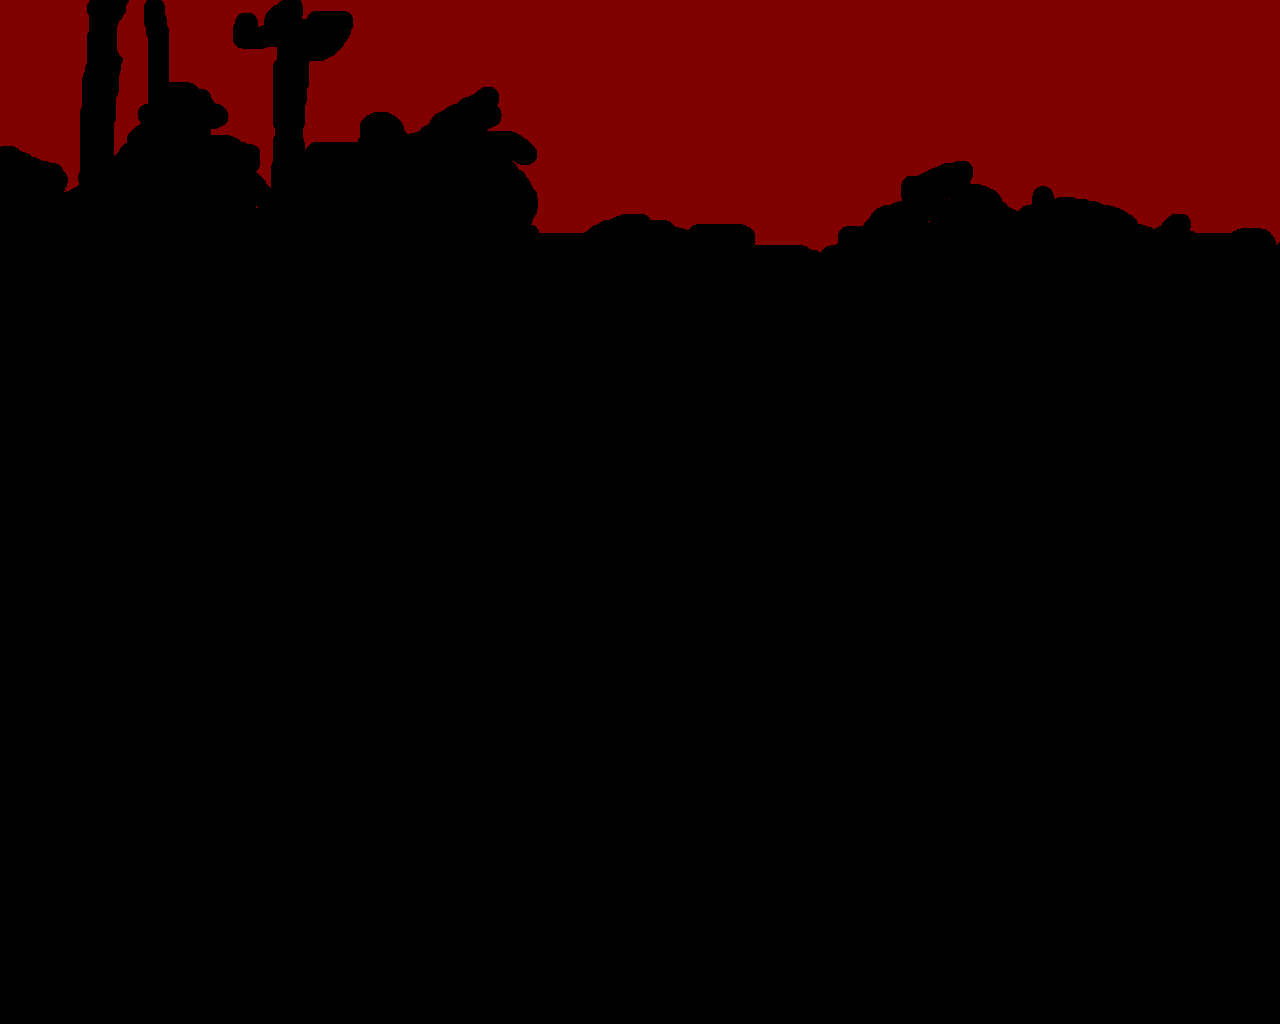Sky: (1, 1, 1279, 252)
